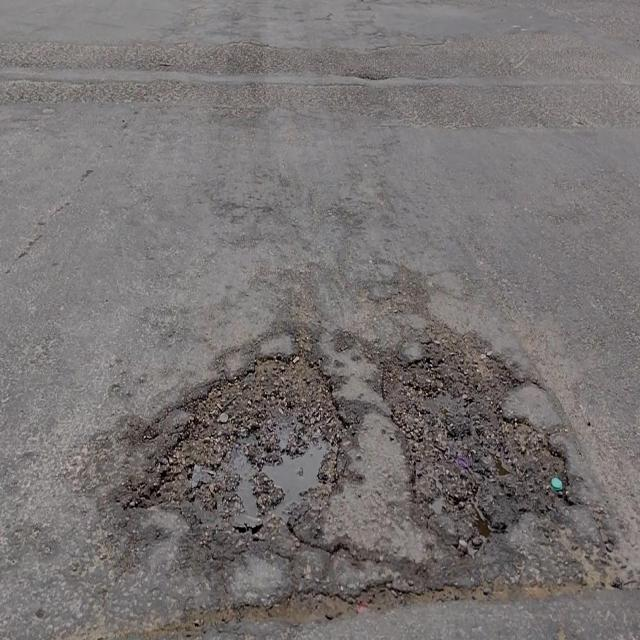Potholes: (380, 326, 568, 554), (135, 350, 341, 554)
